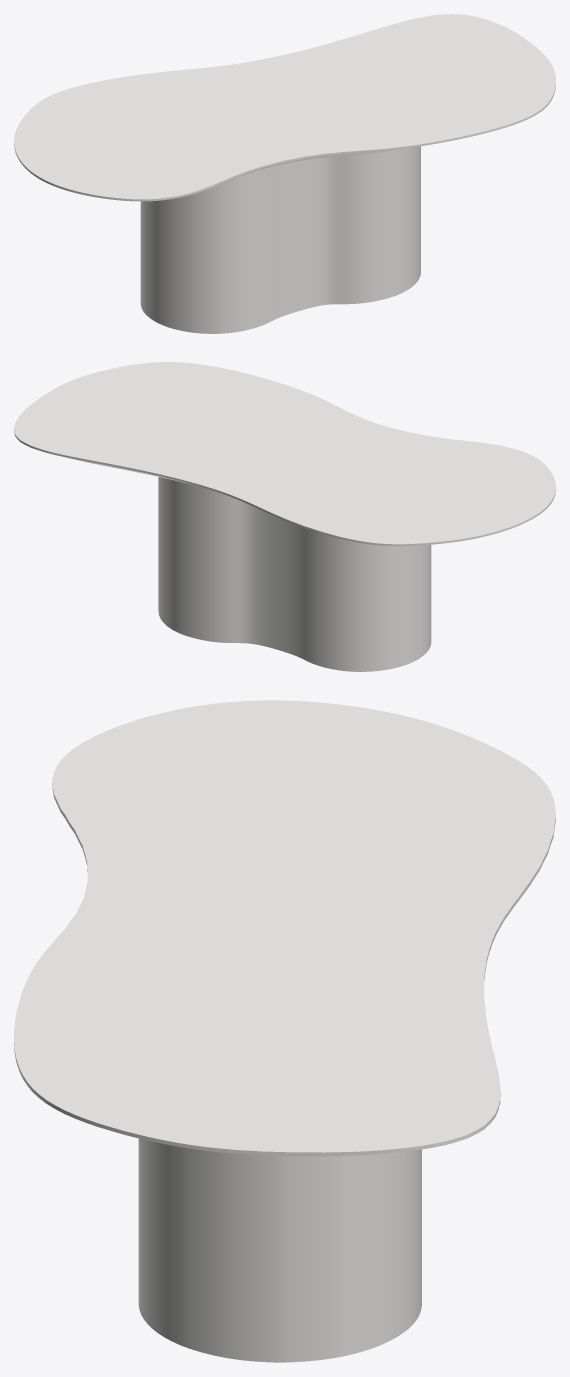
Rendered from purewhite_wave_facet_riverwave.glb.
The picture shows the model from 3 angles, top to bottom: view 1: azimuth 30°, elevation 25°; view 2: azimuth 150°, elevation 25°; view 3: azimuth 270°, elevation 25°; orthographic projection. The views are drawn at different scales.
Visible parts, largest first — view 1: facet_wave, riverwave; view 2: facet_wave, riverwave; view 3: facet_wave, riverwave.
Boxes of the visible parts, left/top/right/bottom form: facet_wave: left=14, top=14, right=555, bottom=201; riverwave: left=140, top=146, right=420, bottom=333; facet_wave: left=14, top=362, right=555, bottom=546; riverwave: left=158, top=477, right=431, bottom=671; facet_wave: left=14, top=700, right=555, bottom=1156; riverwave: left=138, top=1138, right=421, bottom=1362.
Bounding box in the file's own units: 7.5 × 2.5 × 3.8.
1 material, 1 textured.
